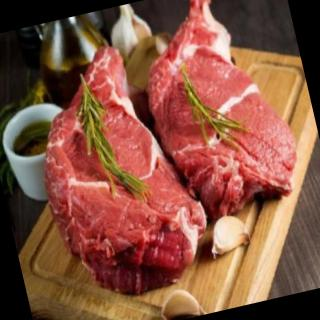Daging Sapi: (19, 34, 219, 303)
